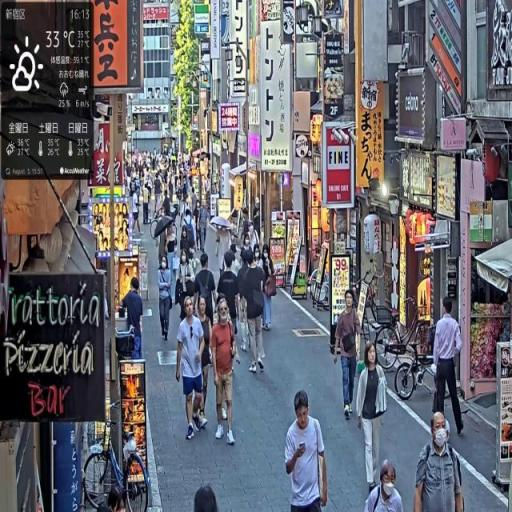person: (286, 388, 330, 512), (413, 410, 466, 512), (355, 343, 389, 499), (432, 296, 467, 444), (177, 296, 208, 443), (212, 299, 240, 447), (336, 289, 364, 422), (241, 249, 267, 375), (216, 251, 242, 354), (195, 296, 214, 427), (367, 460, 405, 512), (124, 277, 145, 359), (259, 243, 277, 334), (159, 256, 173, 344)
